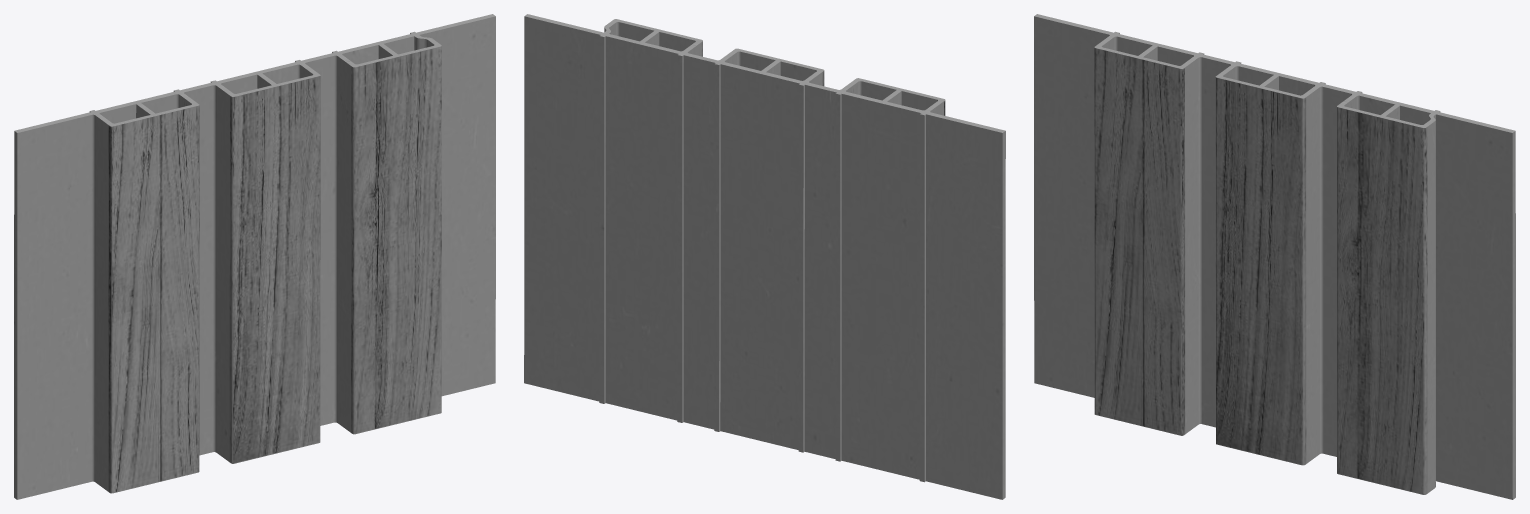
Rendered from griboyali3lu.glb.
The picture shows the model from 3 angles, left to right: view 1: azimuth 30°, elevation 25°; view 2: azimuth 150°, elevation 25°; view 3: azimuth 330°, elevation 25°; orthographic projection.
Parts seen in each view (by area): view 1: Plane.007; view 2: Plane.007; view 3: Plane.007.
Part boxes in pixels (x1=…): Plane.007: x1=14, y1=14, x2=495, y2=499; Plane.007: x1=524, y1=14, x2=1005, y2=499; Plane.007: x1=1034, y1=14, x2=1515, y2=499.
Size of the model in its own units: 10.06 by 7.37 by 0.7962.
Materials: 2 (2 with a texture image).
